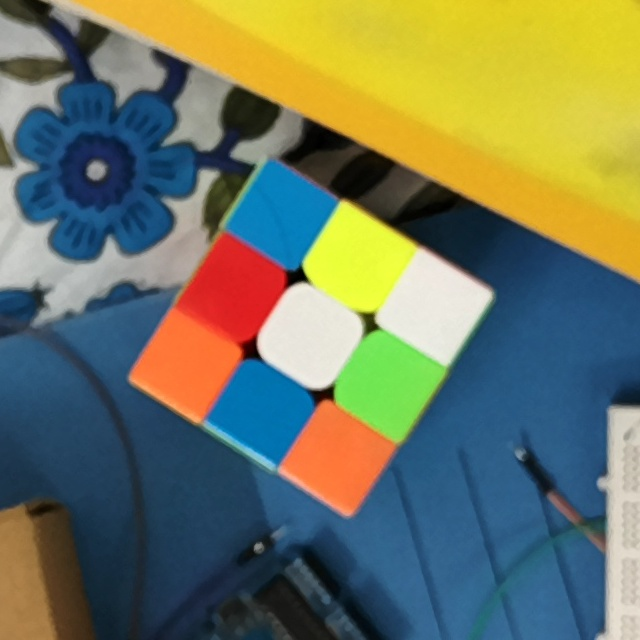tile: (324, 230, 388, 290), (399, 279, 464, 338), (356, 353, 418, 414), (278, 306, 341, 366), (308, 428, 369, 488), (157, 337, 218, 397), (231, 382, 295, 439), (206, 262, 263, 321), (252, 191, 309, 242)
